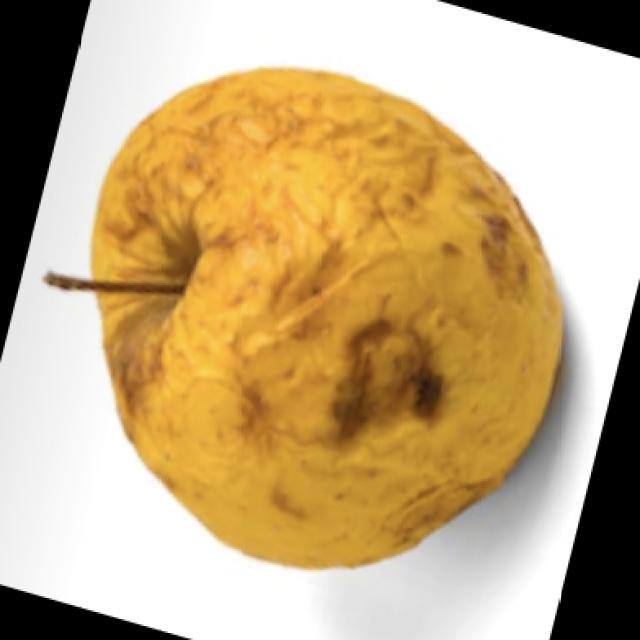Rotten: (113, 99, 580, 598)
